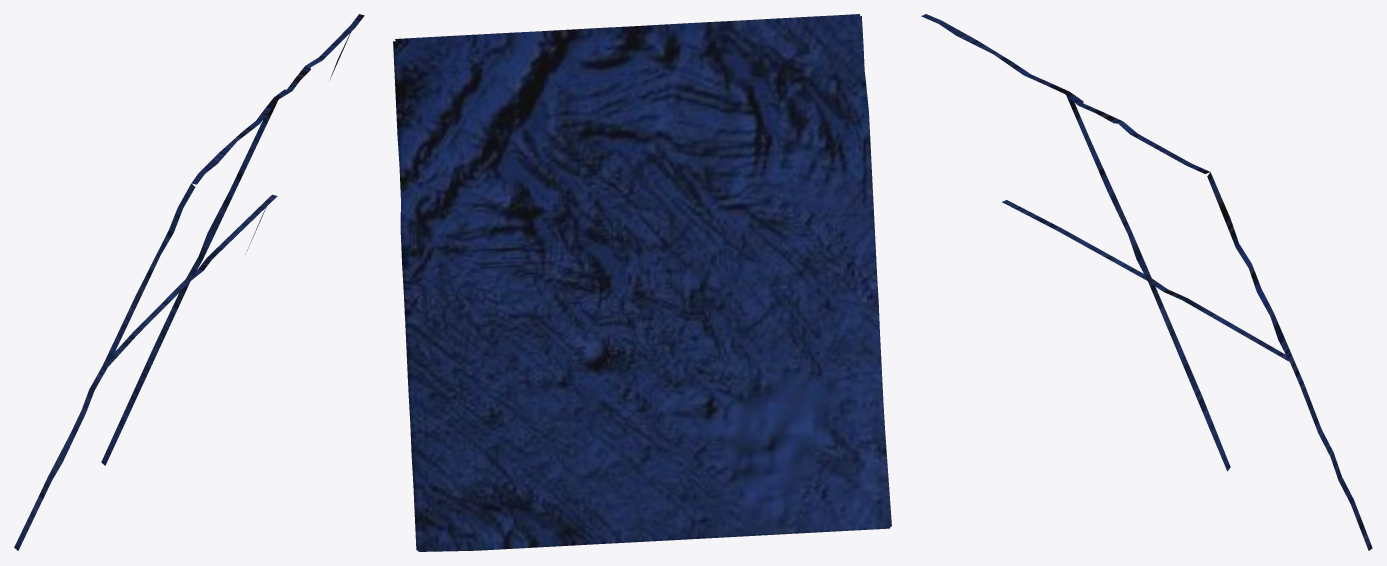
The picture shows the model from 3 angles, left to right: view 1: azimuth 30°, elevation 25°; view 2: azimuth 150°, elevation 25°; view 3: azimuth 270°, elevation 25°; orthographic projection. The views are drawn at different scales.
Size of the model in its own units: 154687 by 145419 by 138015.
1 material, 1 textured.
